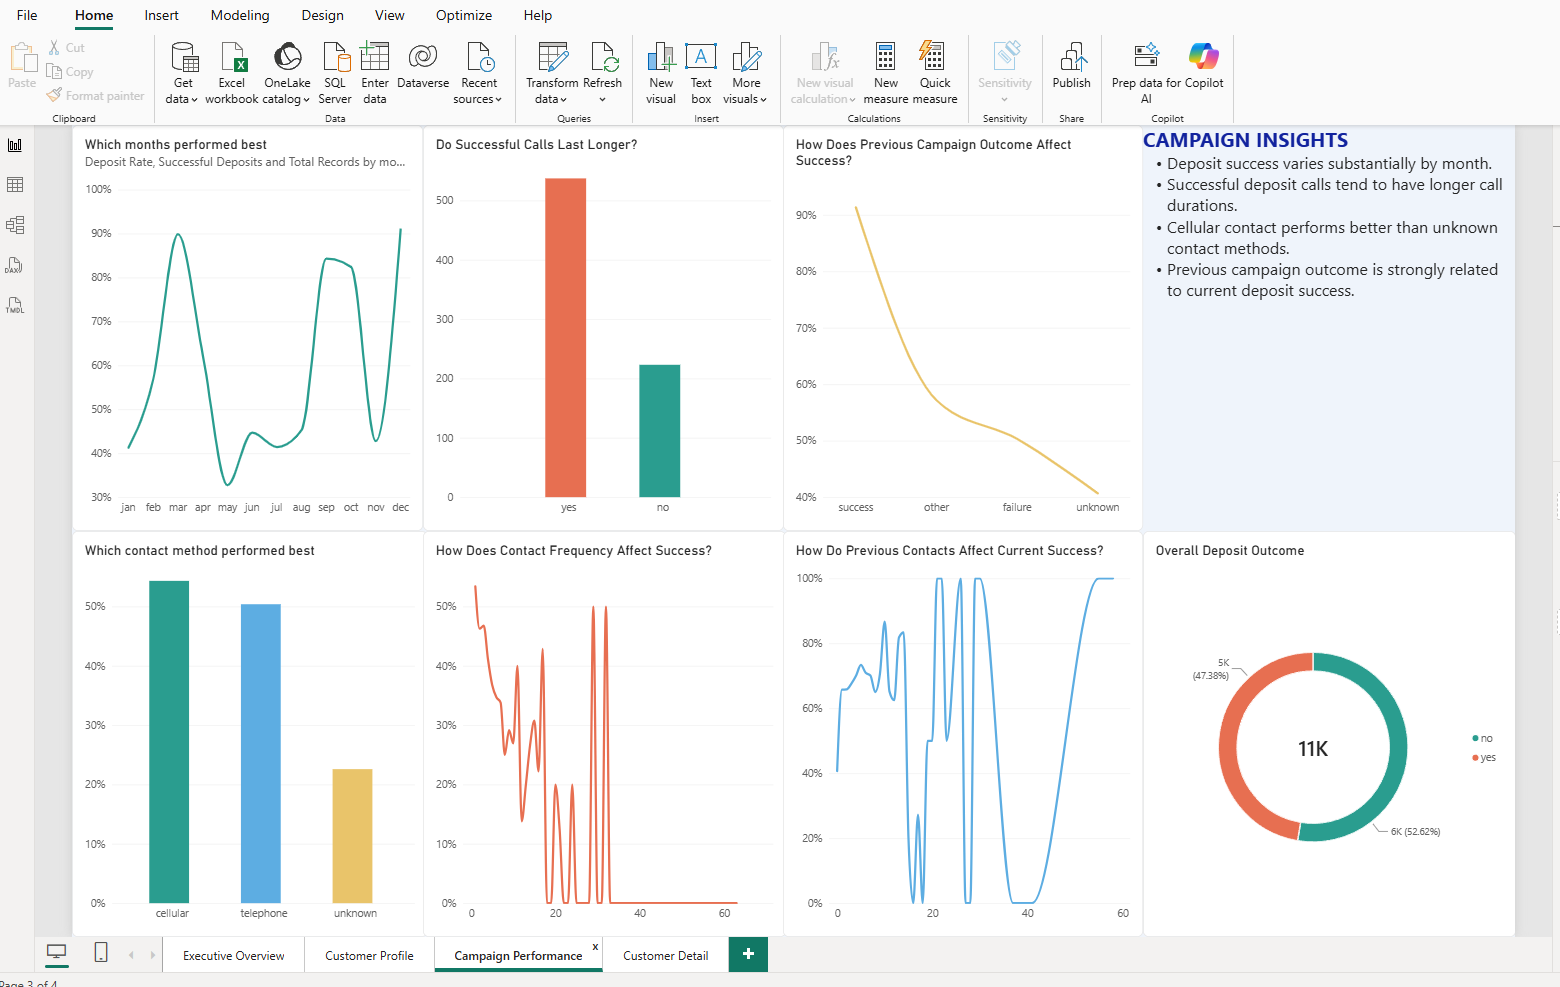

The page's visual inventory and layout, read from the dashboard file:
{"tool":"powerbi","page":{"name":"Campaign Performance","canvas":[1920,1080],"ordinal":2},"visuals":[{"type":"lineChart","title":"Which months performed best","fields":{"Category":["bank.month"],"Y":["bank.Deposit Rate"]},"box":[0,0,467.1,540],"z":0},{"type":"clusteredColumnChart","title":"Which contact method performed best","fields":{"Category":["bank.contact"],"Y":["bank.Deposit Rate"]},"box":[0,540,473.3,540],"z":1000},{"type":"clusteredColumnChart","title":"Do Successful Calls Last Longer?","fields":{"Category":["bank.deposit"],"Y":["bank.Average Call Duration"]},"box":[467.1,0,480,540],"z":2000},{"type":"lineChart","title":"How Does Contact Frequency Affect Success?","fields":{"Category":["bank.campaign"],"Y":["bank.Deposit Rate"]},"box":[466.7,540,483.3,540],"z":3000},{"type":"lineChart","title":"How Do Previous Contacts Affect Current Success?","fields":{"Category":["bank.previous"],"Y":["bank.Deposit Rate"]},"box":[945.7,540,478.6,540],"z":5000},{"type":"lineChart","title":"How Does Previous Campaign Outcome Affect Success?","fields":{"Category":["bank.poutcome"],"Y":["bank.Deposit Rate"]},"box":[945.7,0,478.6,540],"z":6000},{"type":"donutChart","title":"Overall Deposit Outcome","fields":{"Category":["bank.deposit"],"Y":["bank.Total Records"]},"box":[1424.3,540,495.7,540],"z":7000},{"type":"textbox","box":[1425,0,495,540],"z":7001}]}

Visuals, with their boxes on the page's 1920x1080 design canvas (x1, y1, x2, y2). These are canvas units, not pixel positions in the 1560x987 screenshot, which may show the page scaled, cropped or inside an application window:
"Which months performed best" lineChart: BBox(0, 0, 467, 540)
"Which contact method performed best" clusteredColumnChart: BBox(0, 540, 473, 1080)
"Do Successful Calls Last Longer?" clusteredColumnChart: BBox(467, 0, 947, 540)
"How Does Contact Frequency Affect Success?" lineChart: BBox(467, 540, 950, 1080)
"How Do Previous Contacts Affect Current Success?" lineChart: BBox(946, 540, 1424, 1080)
"How Does Previous Campaign Outcome Affect Success?" lineChart: BBox(946, 0, 1424, 540)
"Overall Deposit Outcome" donutChart: BBox(1424, 540, 1920, 1080)
textbox: BBox(1425, 0, 1920, 540)
